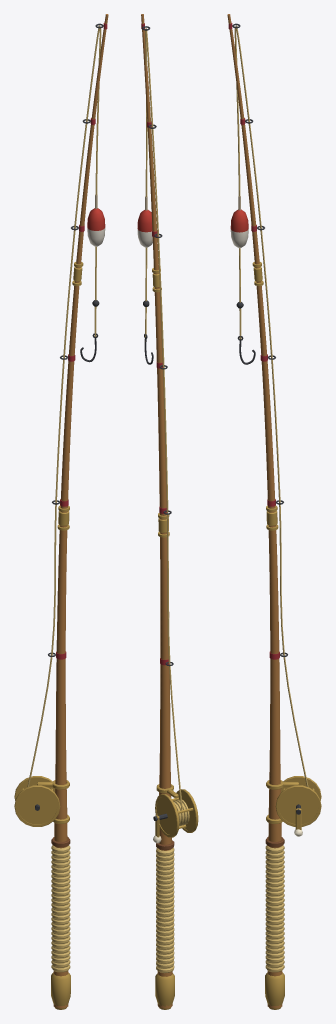
Rendered from tool_fishingrod.fbx.
The picture shows the model from 3 angles, left to right: view 1: azimuth 90°, elevation 25°; view 2: azimuth 210°, elevation 25°; view 3: azimuth 270°, elevation 25°; orthographic projection.
Visible parts, largest first — view 1: Tool_FishingRod_Rod, Tool_FishingRod_Grip, Tool_FishingRod_Line, Tool_FishingRod_Reel, Tool_FishingRod_Wraps; view 2: Tool_FishingRod_Rod, Tool_FishingRod_Grip, Tool_FishingRod_Line, Tool_FishingRod_Reel, Tool_FishingRod_Wraps, Tool_FishingRod_Guides; view 3: Tool_FishingRod_Rod, Tool_FishingRod_Grip, Tool_FishingRod_Line, Tool_FishingRod_Reel, Tool_FishingRod_Wraps.
Part boxes in pixels (x1=…): Tool_FishingRod_Rod: x1=53, y1=14, x2=108, y2=1008; Tool_FishingRod_Grip: x1=51, y1=837, x2=70, y2=1009; Tool_FishingRod_Line: x1=27, y1=25, x2=105, y2=787; Tool_FishingRod_Reel: x1=14, y1=776, x2=69, y2=826; Tool_FishingRod_Wraps: x1=56, y1=22, x2=107, y2=659; Tool_FishingRod_Rod: x1=141, y1=14, x2=172, y2=1008; Tool_FishingRod_Grip: x1=155, y1=840, x2=174, y2=1009; Tool_FishingRod_Line: x1=137, y1=28, x2=182, y2=810; Tool_FishingRod_Reel: x1=153, y1=784, x2=198, y2=843; Tool_FishingRod_Wraps: x1=141, y1=23, x2=168, y2=665; Tool_FishingRod_Guides: x1=142, y1=26, x2=173, y2=666; Tool_FishingRod_Rod: x1=227, y1=14, x2=282, y2=1008; Tool_FishingRod_Grip: x1=265, y1=837, x2=284, y2=1009; Tool_FishingRod_Line: x1=230, y1=25, x2=308, y2=787; Tool_FishingRod_Reel: x1=266, y1=776, x2=321, y2=836; Tool_FishingRod_Wraps: x1=228, y1=22, x2=279, y2=659.
Size of the model in its own units: 10.46 by 261 by 22.37.
